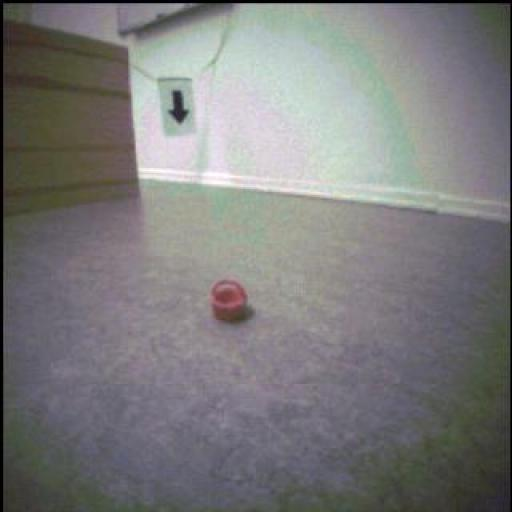Arrow: (169, 92, 190, 124)
Bucket: (212, 279, 250, 323)
